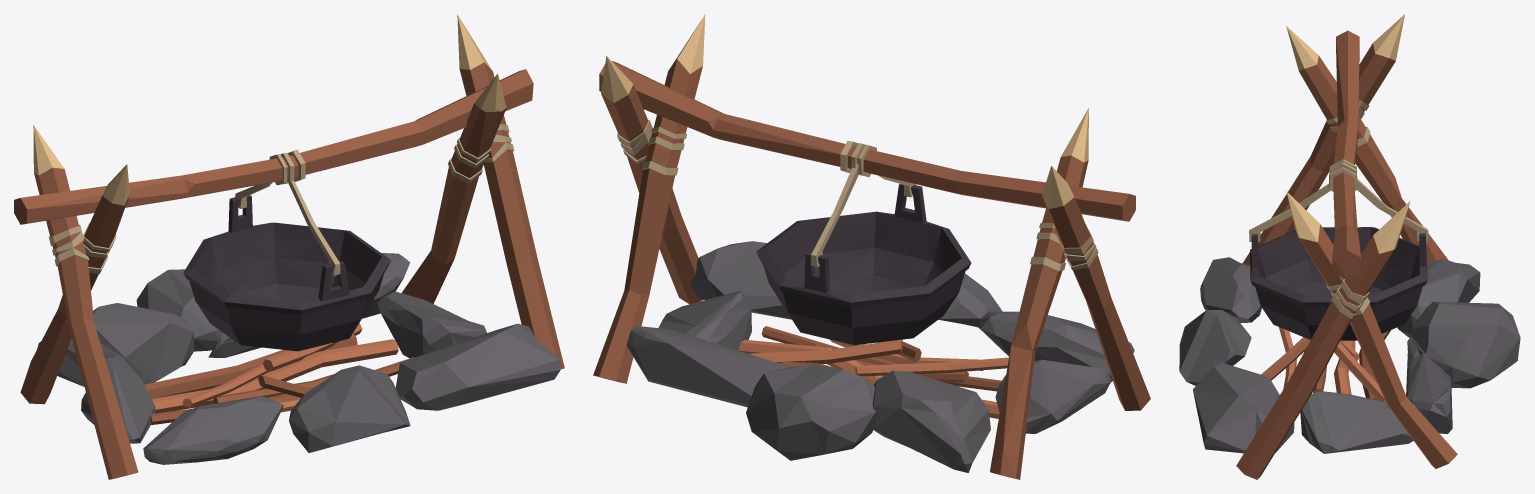
File: Fireplace Village.fbx
3 renders of one model, left to right at view 1: azimuth 30°, elevation 25°; view 2: azimuth 150°, elevation 25°; view 3: azimuth 270°, elevation 25°, orthographic. The views are drawn at different scales.
Visible parts, largest first — view 1: Fireplace; view 2: Fireplace; view 3: Fireplace.
Part boxes in pixels (<box>): Fireplace: <box>14,14,564,479</box>; Fireplace: <box>593,14,1150,479</box>; Fireplace: <box>1179,14,1520,479</box>.
Size of the model in its own units: 2.12 by 1.21 by 1.36.
